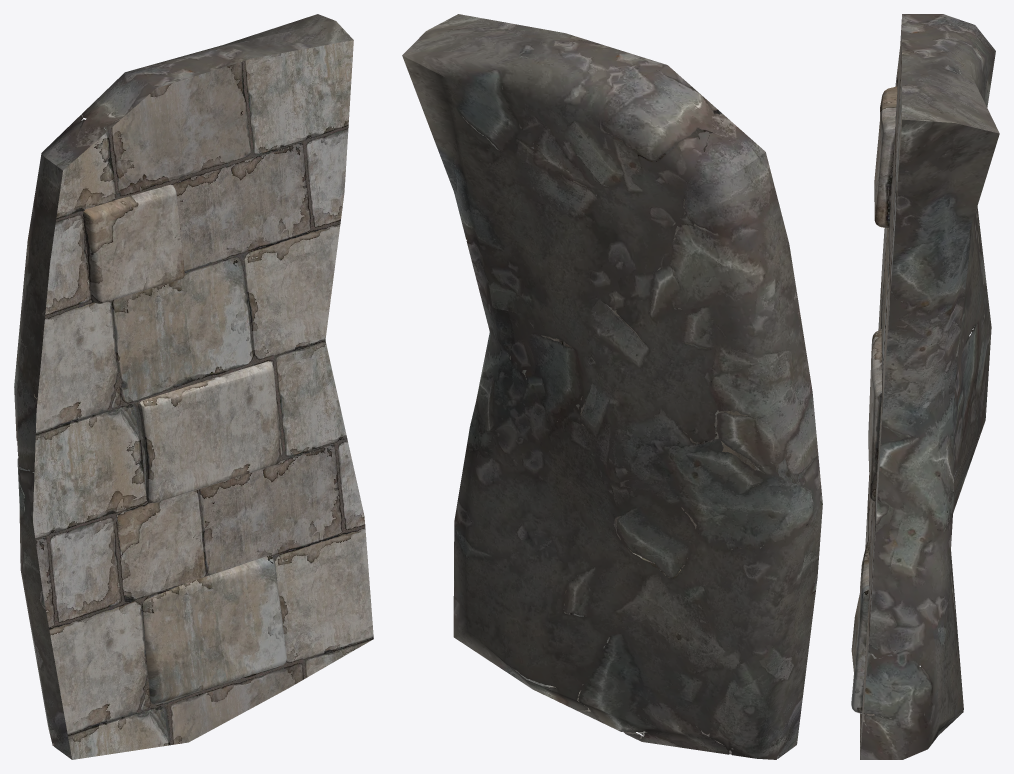
3 renders of one model, left to right at view 1: azimuth 30°, elevation 25°; view 2: azimuth 150°, elevation 25°; view 3: azimuth 270°, elevation 25°, orthographic. The views are drawn at different scales.
Parts seen in each view (by area): view 1: SM_KuldrasTower_DMG_04_LOD0; view 2: SM_KuldrasTower_DMG_04_LOD0; view 3: SM_KuldrasTower_DMG_04_LOD0.
Boxes of the visible parts, x1,y1,x2,y2 form: SM_KuldrasTower_DMG_04_LOD0: (14,14,373,759); SM_KuldrasTower_DMG_04_LOD0: (402,14,822,759); SM_KuldrasTower_DMG_04_LOD0: (851,14,999,759).
Bounding box in the file's own units: 13.28 × 24.14 × 4.58.
2 materials, 2 textured.
